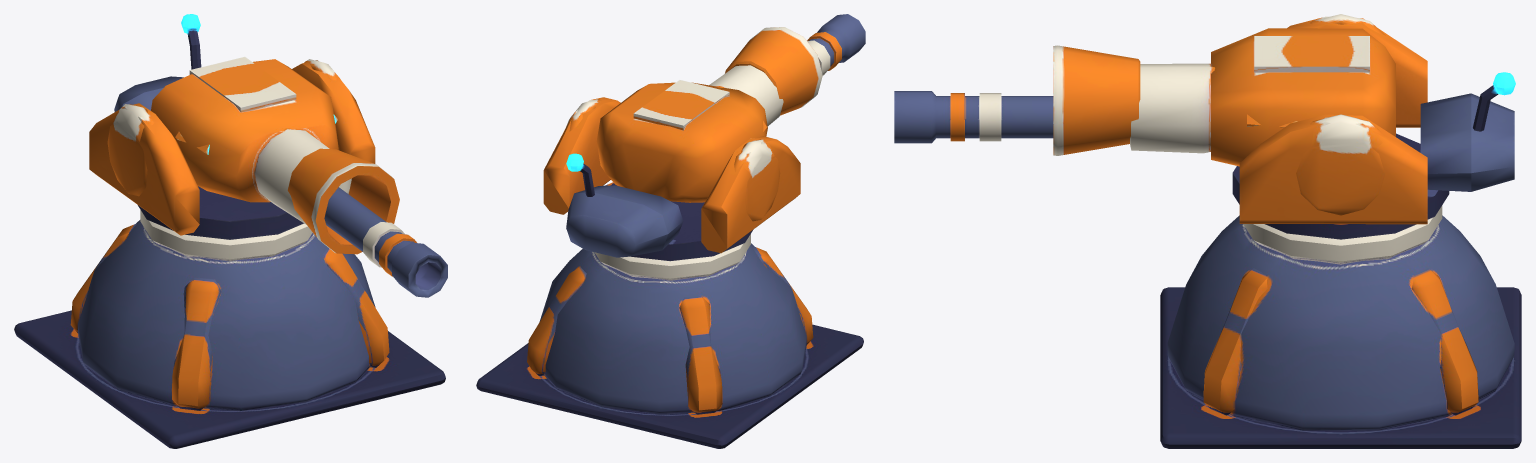
The model's file is R4W_Basic_LOD1.fbx.
3 renders of one model, left to right at view 1: azimuth 30°, elevation 25°; view 2: azimuth 150°, elevation 25°; view 3: azimuth 270°, elevation 25°, orthographic. The views are drawn at different scales.
Visible parts, largest first — view 1: R4W_Basic_LOD1; view 2: R4W_Basic_LOD1; view 3: R4W_Basic_LOD1.
Boxes of the visible parts, x1,y1,x2,y2 form: R4W_Basic_LOD1: [14, 14, 447, 448]; R4W_Basic_LOD1: [476, 14, 865, 448]; R4W_Basic_LOD1: [894, 14, 1521, 448].
Bounding box in the file's own units: 0.5 × 0.4968 × 0.868.
